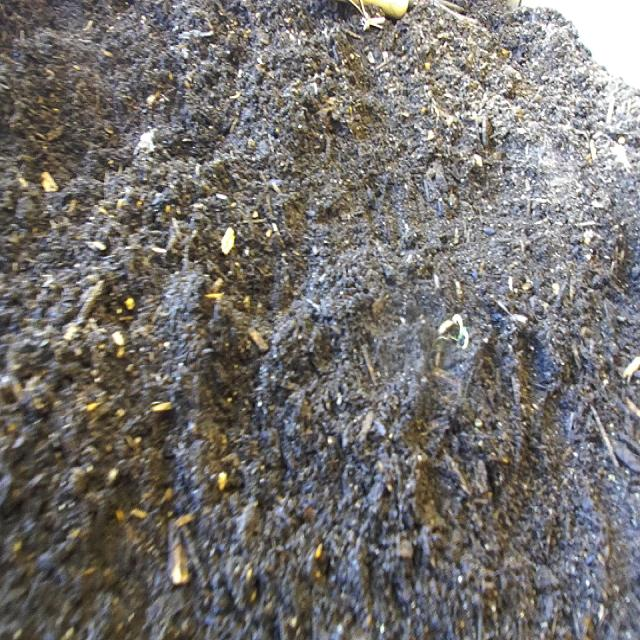Unhealthy: (427, 289, 482, 374)
